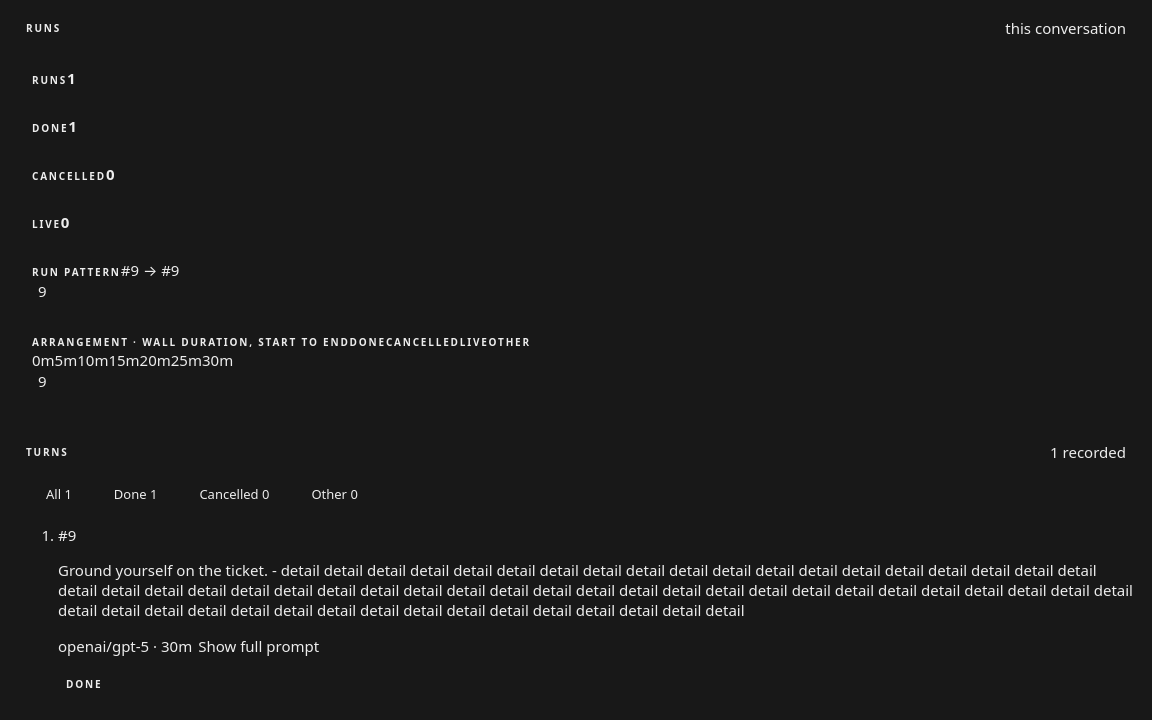
expands a clamped prompt without losing the model and duration
The width and height of the screenshot is (1152, 720).
Click the button "Show full prompt" at (259, 646), box [192,635,325,657]
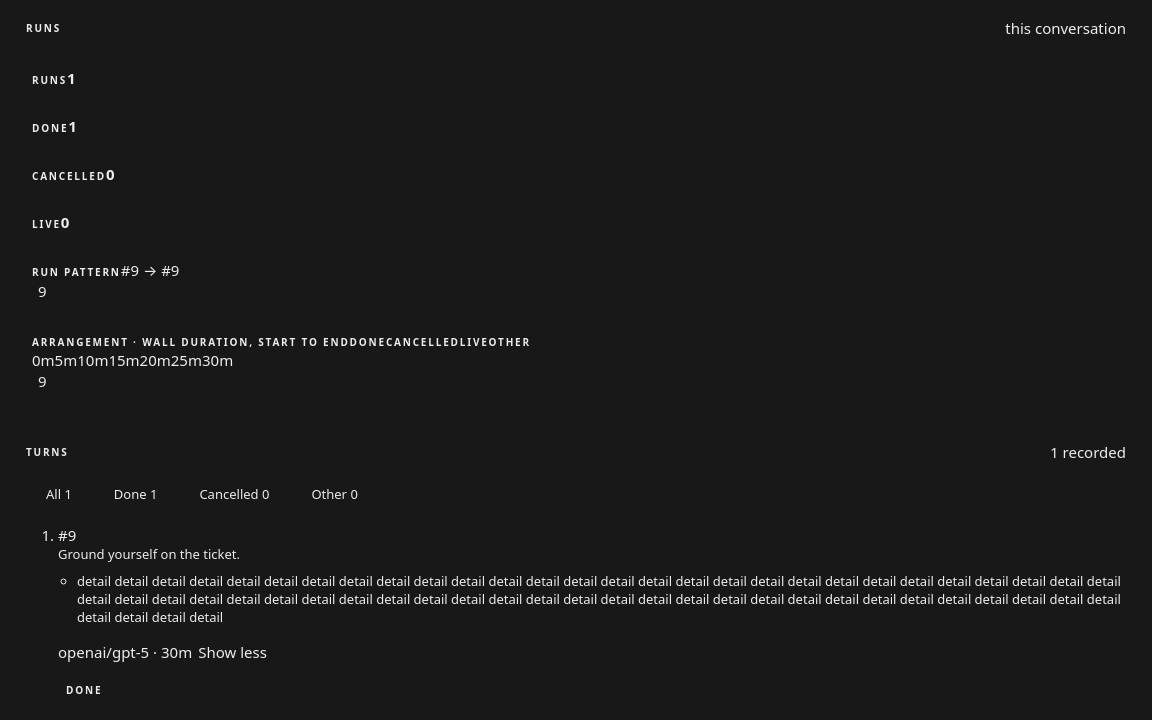
Expected: the text with class "synth-turn__prompt" is gone
Click the button "Show less" at (233, 652), box [192,641,273,663]
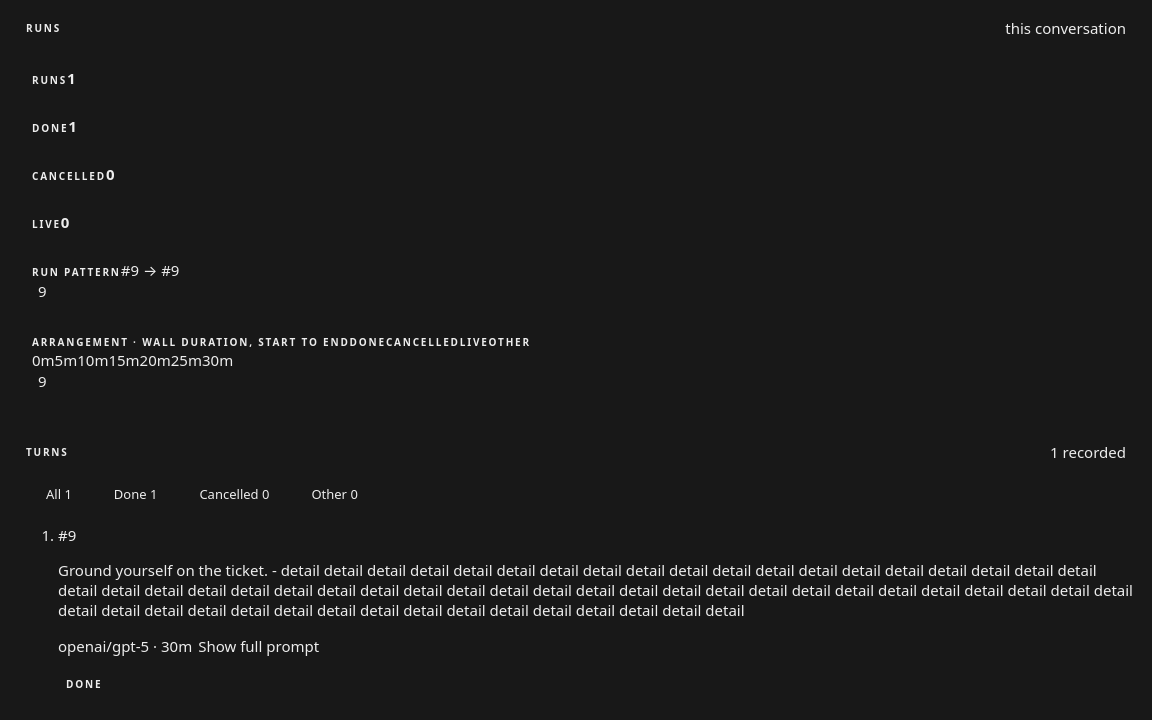
Expected: the button "Show full prompt" is shown, [192,635,325,657]
